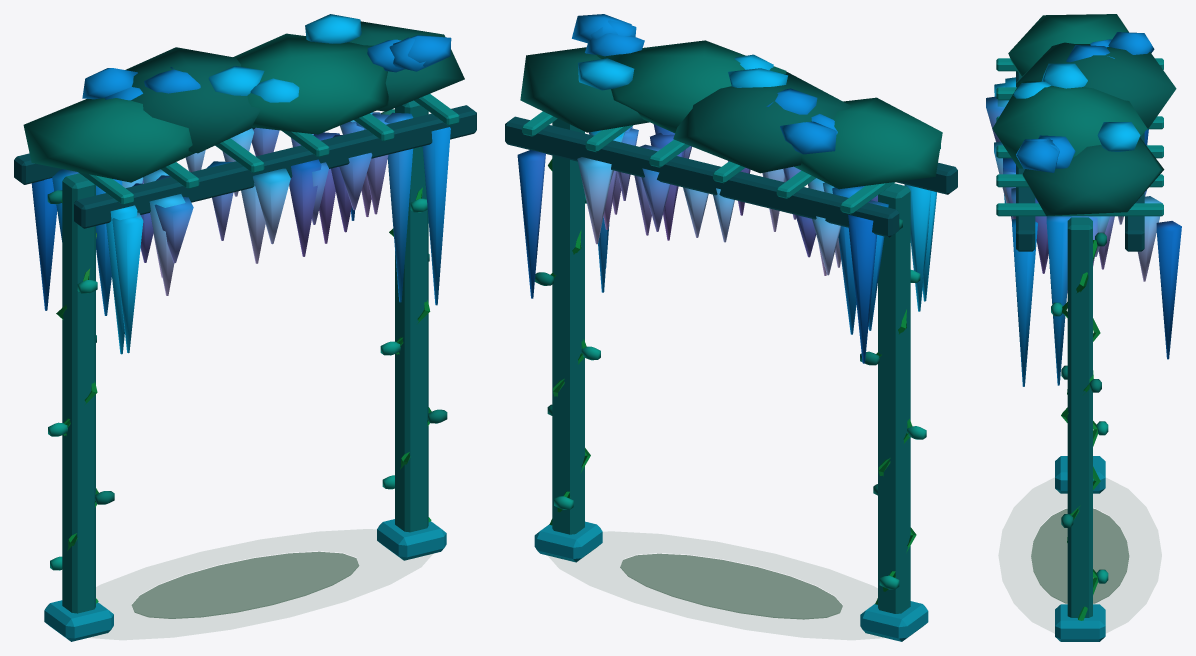
File: wisteria_arch.glb
3 renders of one model, left to right at view 1: azimuth 30°, elevation 25°; view 2: azimuth 150°, elevation 25°; view 3: azimuth 270°, elevation 25°, orthographic. The views are drawn at different scales.
Parts seen in each view (by area): view 1: wisteria_arch; view 2: wisteria_arch; view 3: wisteria_arch.
Part boxes in pixels (x1,y1,x2,y2): wisteria_arch: [14, 14, 476, 641]; wisteria_arch: [505, 14, 957, 641]; wisteria_arch: [986, 14, 1181, 641].
Size of the model in its own units: 2.25 by 2.75 by 1.01.
